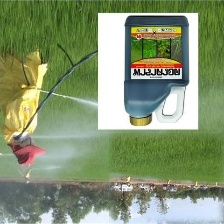insecticide: (118, 12, 192, 129)
